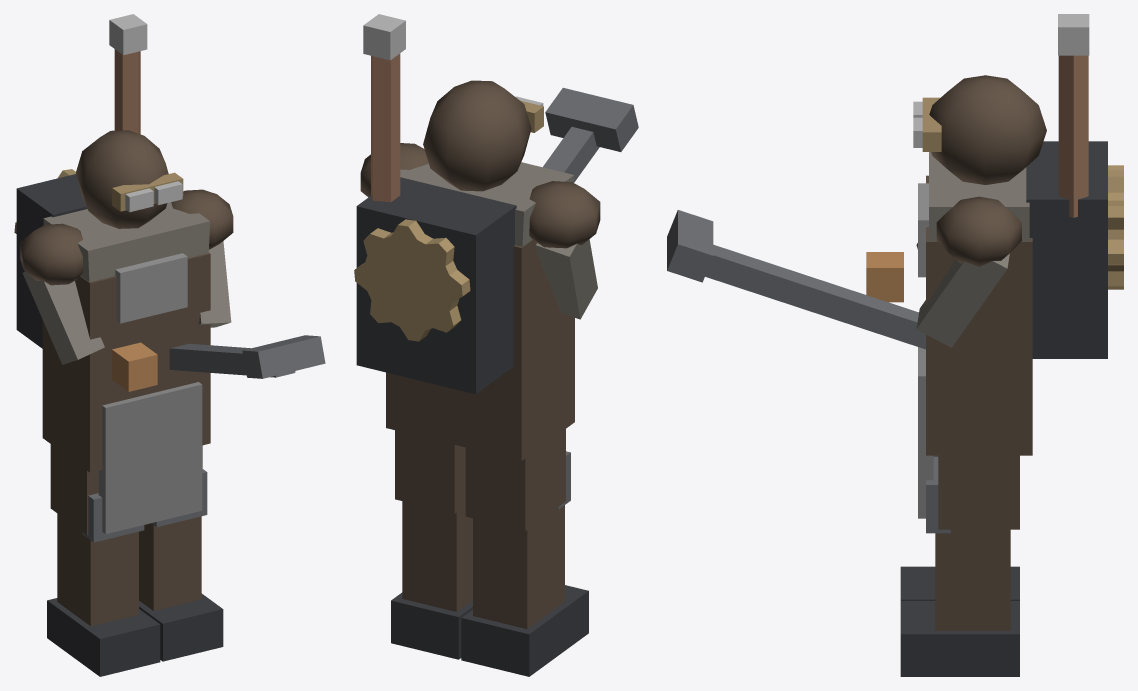
Rendered from artificer.glb.
The picture shows the model from 3 angles, left to right: view 1: azimuth 30°, elevation 25°; view 2: azimuth 150°, elevation 25°; view 3: azimuth 270°, elevation 25°; orthographic projection. The views are drawn at different scales.
Visible parts, largest first — view 1: artificer; view 2: artificer; view 3: artificer.
Part boxes in pixels (box(x1,y1,x2,y2)): artificer: box(14, 14, 325, 676); artificer: box(354, 14, 638, 676); artificer: box(667, 14, 1123, 676).
Size of the model in its own units: 0.852 by 2.27 by 1.45.
